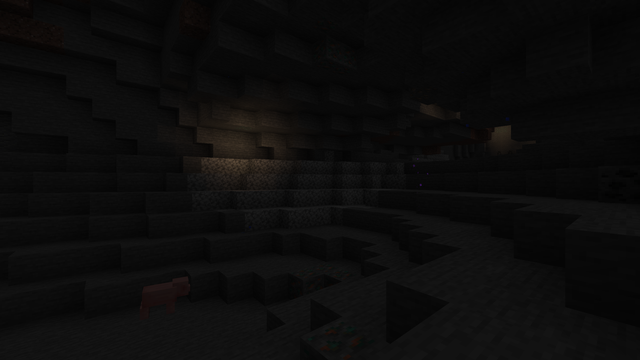cochons: (143, 279, 177, 321)
